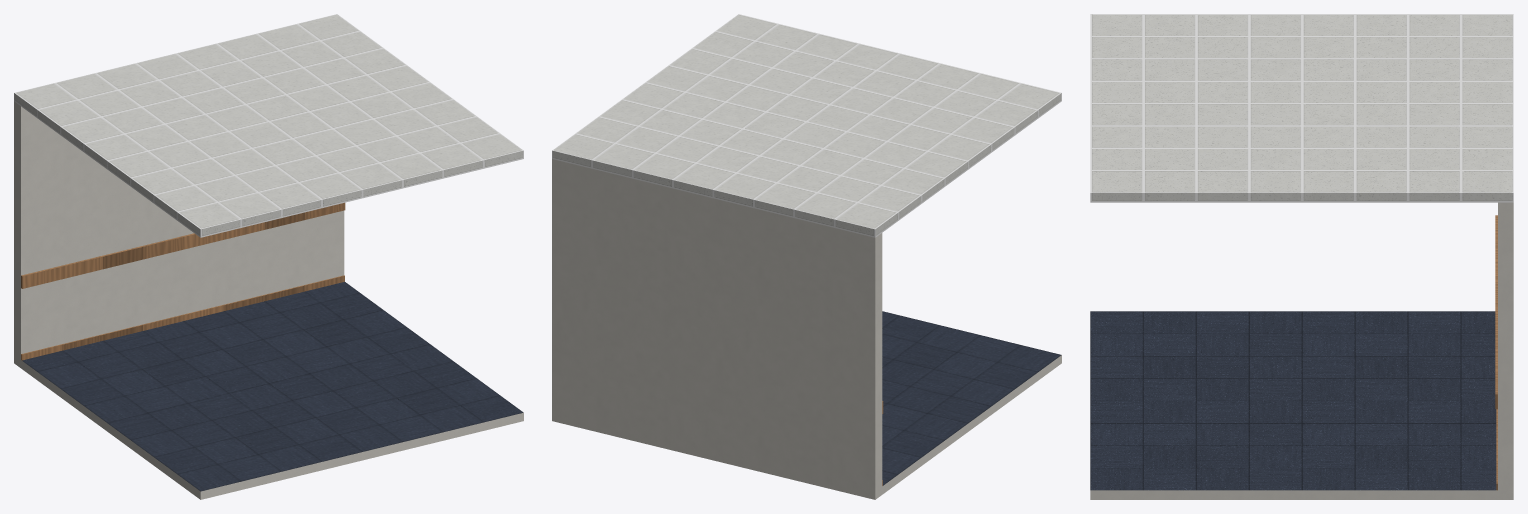
Rendered from Room_Office_Wall_NoLight.glb.
The picture shows the model from 3 angles, left to right: view 1: azimuth 30°, elevation 25°; view 2: azimuth 150°, elevation 25°; view 3: azimuth 270°, elevation 25°; orthographic projection. The views are drawn at different scales.
Visible parts, largest first — view 1: Room_Office_Wall_NoLight, Room_Office_Wall_NoLight_Ceiling; view 2: Room_Office_Wall_NoLight, Room_Office_Wall_NoLight_Ceiling; view 3: Room_Office_Wall_NoLight, Room_Office_Wall_NoLight_Ceiling.
Part boxes in pixels (x1,y1,x2,y2): Room_Office_Wall_NoLight: [14, 101, 523, 499]; Room_Office_Wall_NoLight_Ceiling: [14, 14, 523, 237]; Room_Office_Wall_NoLight: [552, 159, 1061, 499]; Room_Office_Wall_NoLight_Ceiling: [552, 14, 1061, 237]; Room_Office_Wall_NoLight: [1090, 202, 1513, 499]; Room_Office_Wall_NoLight_Ceiling: [1090, 14, 1513, 202].
Size of the model in its own units: 4 by 3.2 by 4.
4 materials, 4 textured.
